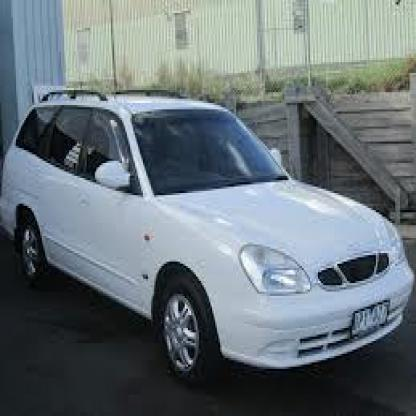Vehicle: (5, 92, 414, 384)
